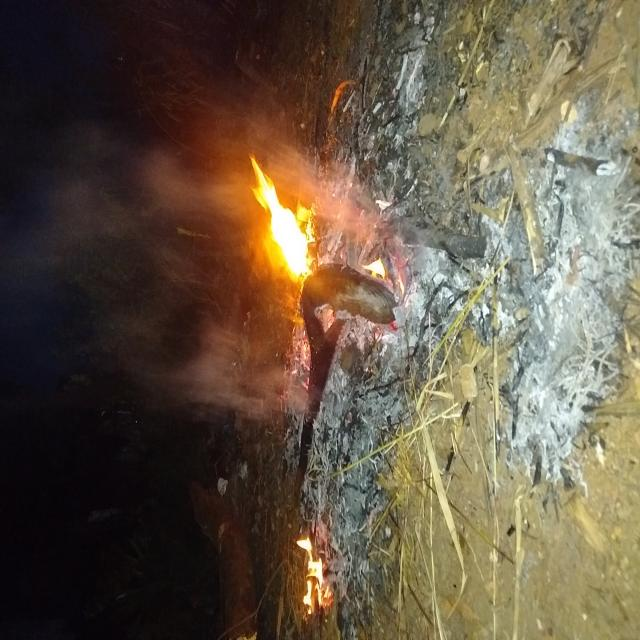Fire: (263, 333, 365, 436)
